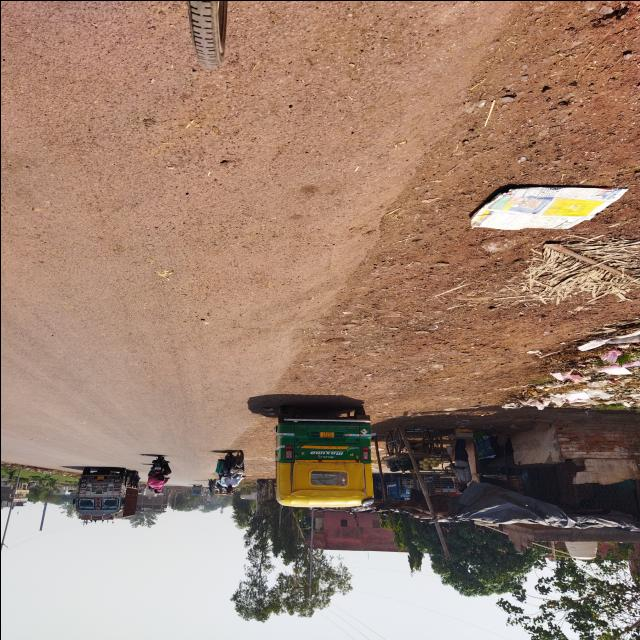Autorickshaw: (264, 400, 380, 514)
